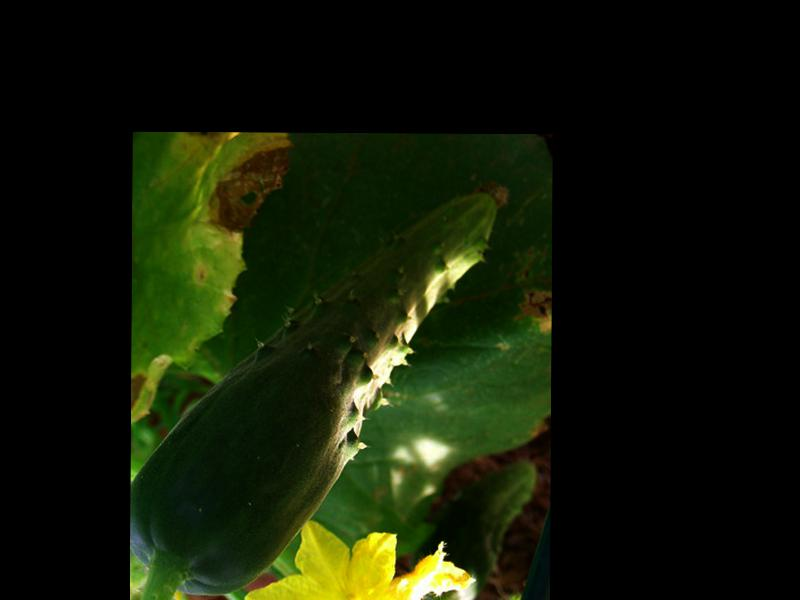Cucumber: (131, 180, 510, 596)
